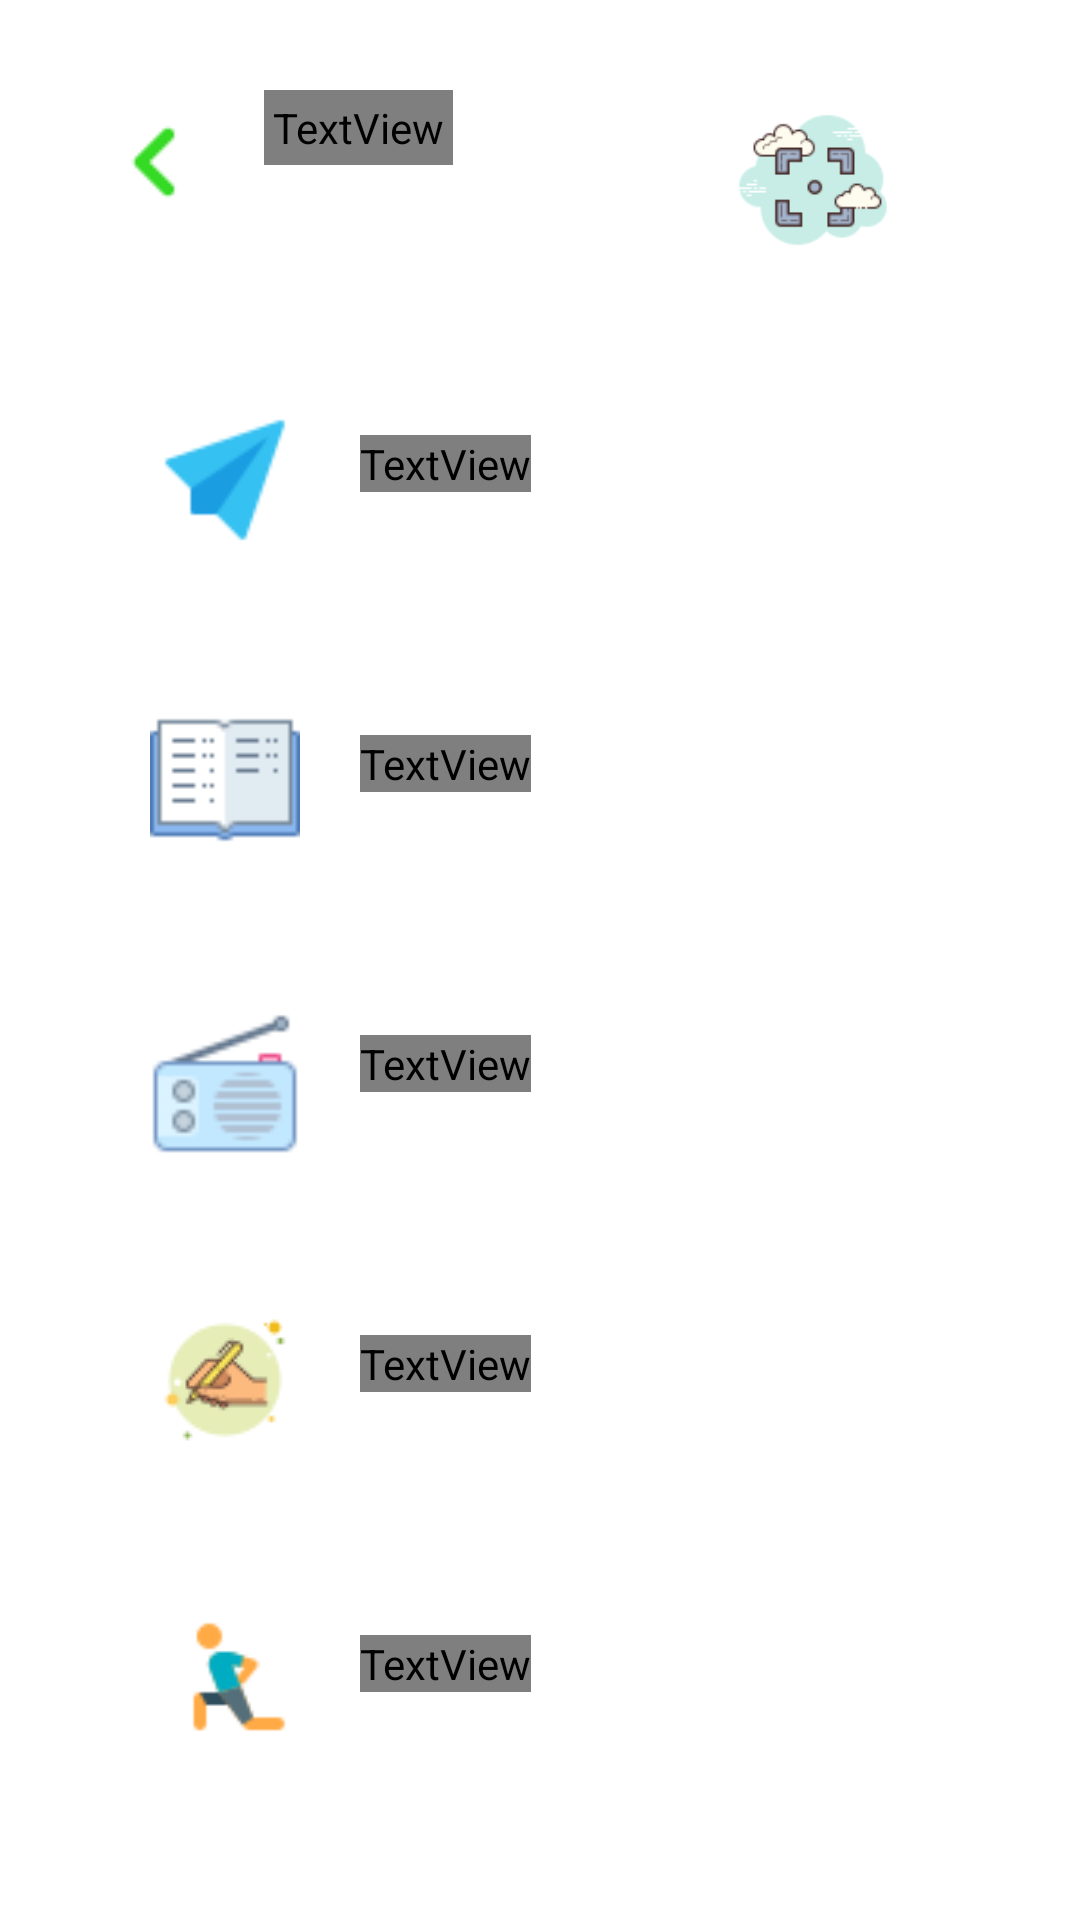

Named icons in this screenshot (1080×1920) and their bounding boxes, (x1, y1, x2, y2):
back: (132, 127, 175, 197)
